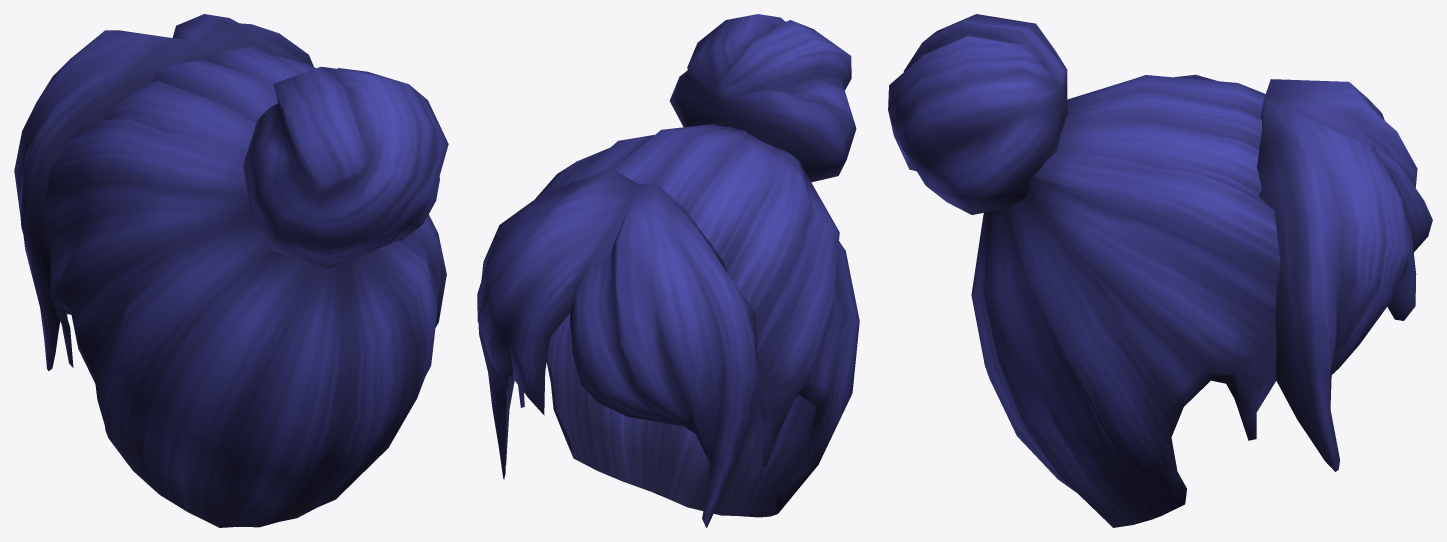
Rendered from Hair_Female_005_textured_blue.glb.
3 views of the same model, side by side, from view 1: azimuth 30°, elevation 25°; view 2: azimuth 150°, elevation 25°; view 3: azimuth 270°, elevation 25° (orthographic). The views are drawn at different scales.
Parts seen in each view (by area): view 1: Hair_Female_005; view 2: Hair_Female_005; view 3: Hair_Female_005.
Part boxes in pixels (x1=…): Hair_Female_005: x1=14, y1=14, x2=448, y2=527; Hair_Female_005: x1=477, y1=14, x2=859, y2=527; Hair_Female_005: x1=888, y1=14, x2=1432, y2=527.
Size of the model in its own units: 0.1944 by 0.2737 by 0.2809.
Materials: 1 (1 with a texture image).
